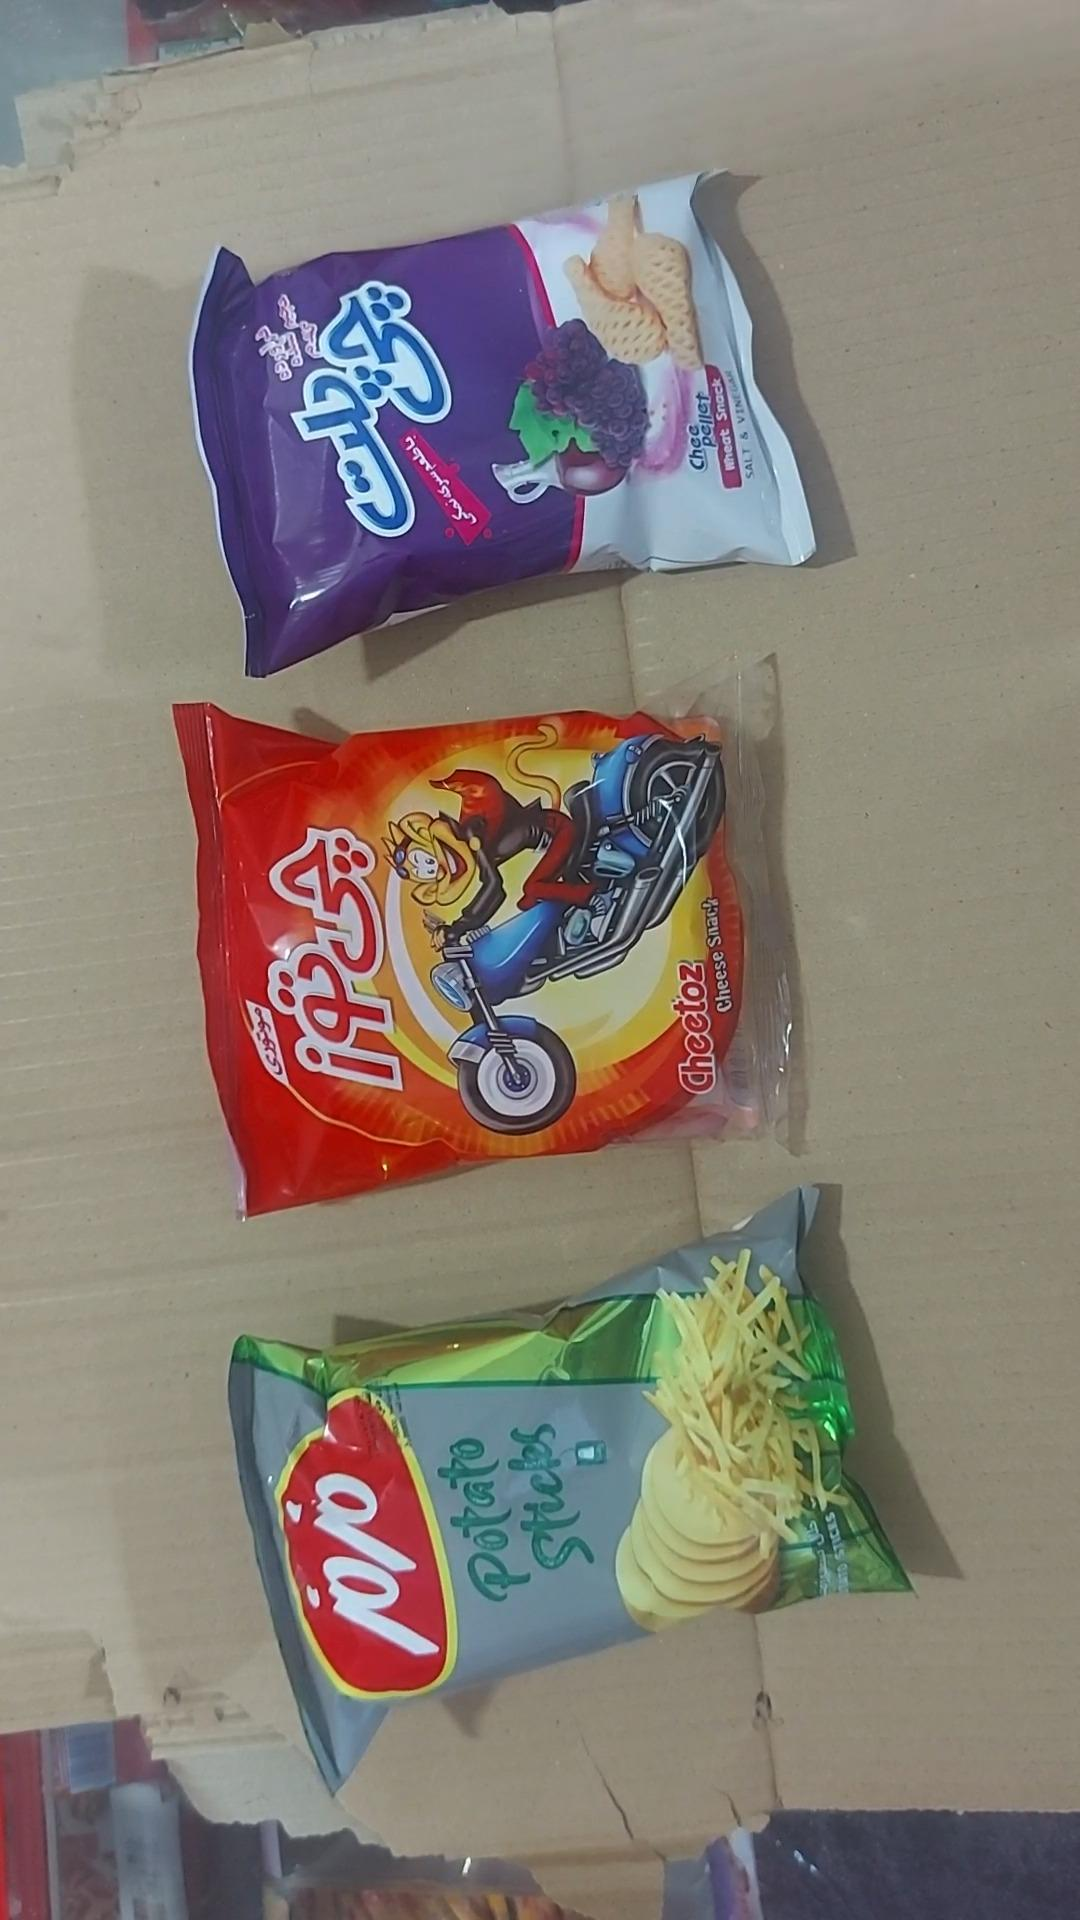Chee pellet vinegar: (190, 167, 819, 680)
Cheetoz snack 30g: (171, 654, 796, 1220)
Maz Maz potato sticks: (225, 1185, 915, 1801)
